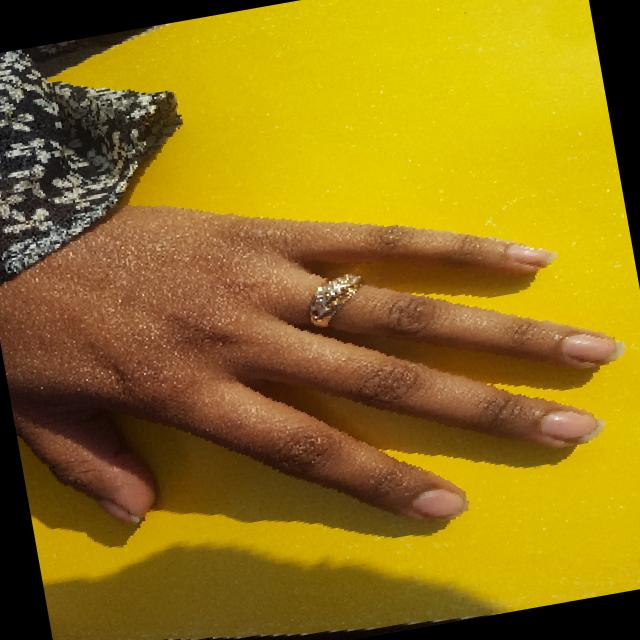Nail: (539, 408, 602, 442), (560, 331, 623, 364), (410, 487, 465, 517), (504, 241, 555, 266), (94, 499, 140, 525)
